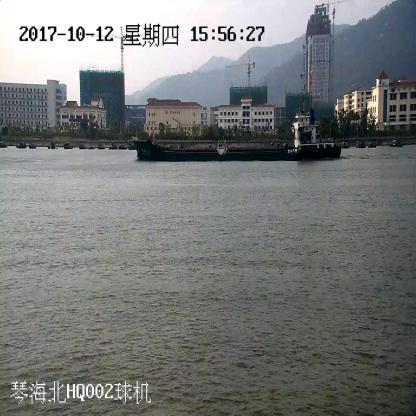Bulk Carrier: (132, 111, 342, 160)
